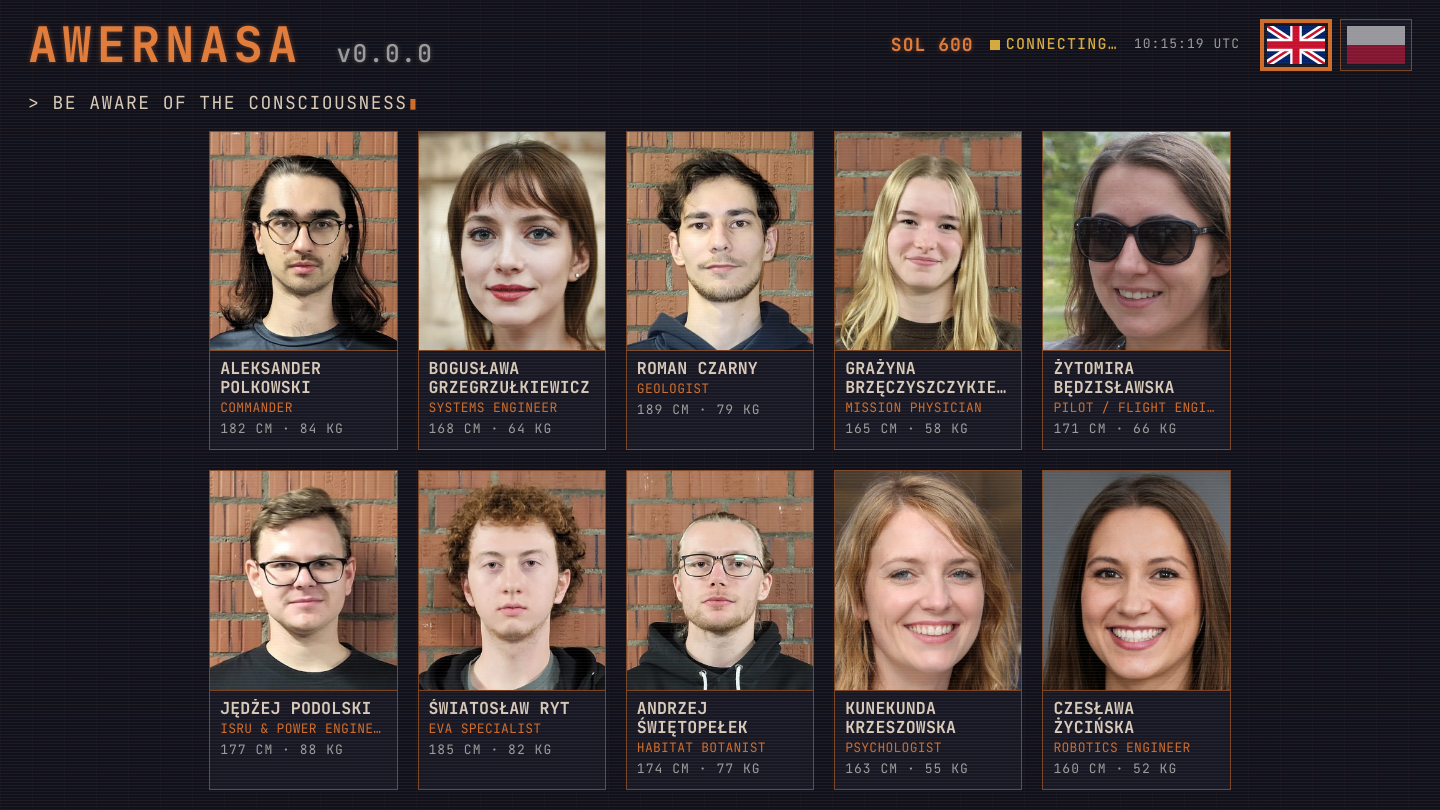
Test: login screen › can switch the language before logging in
Click the button named "Polski": (1376, 45) [1340,19,1412,71]
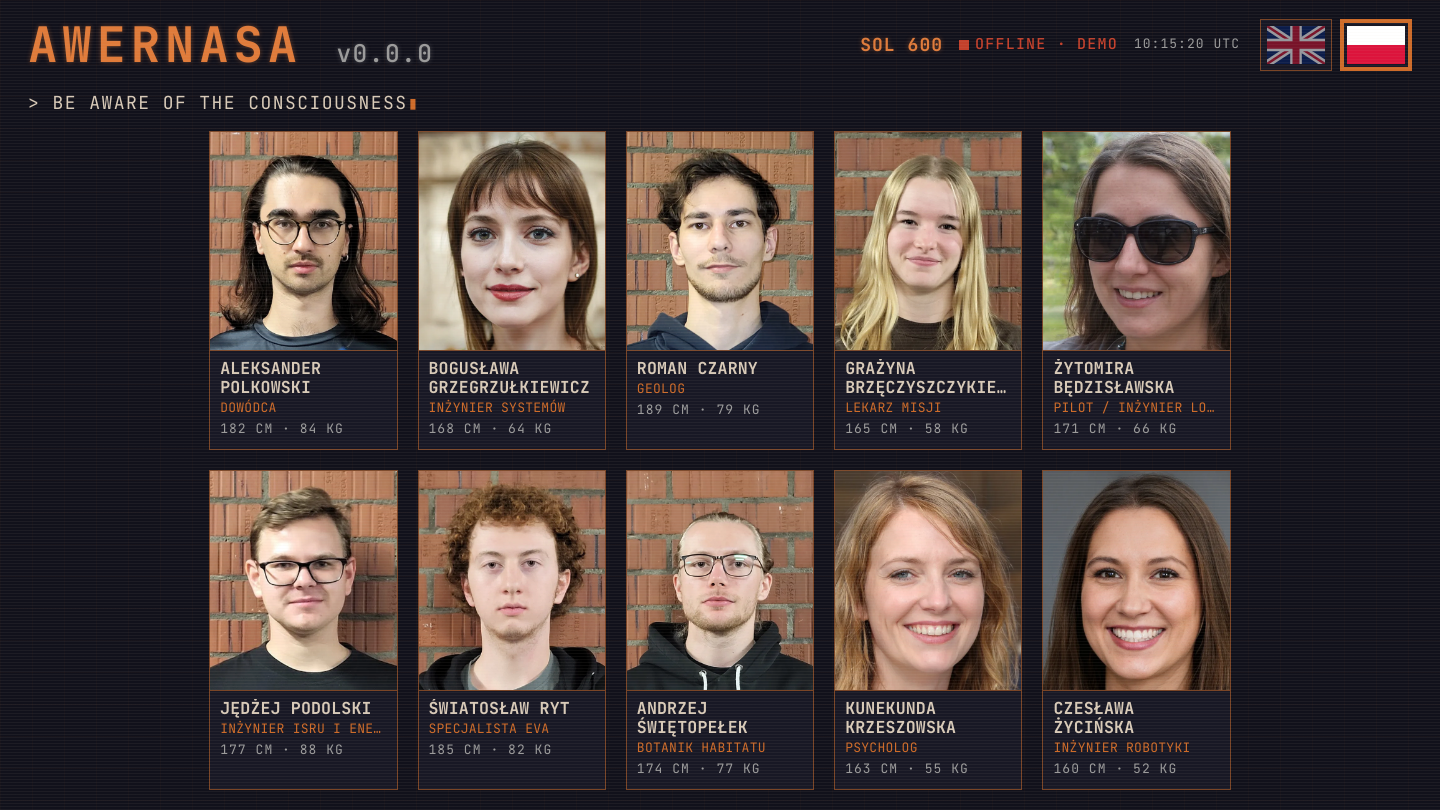
Expected: the text "Geolog" is shown, [637,380,685,397]
Now the button with aria-label "Otwórz sesję jako Roman Czarny" is shown, box [626,131,814,450]
